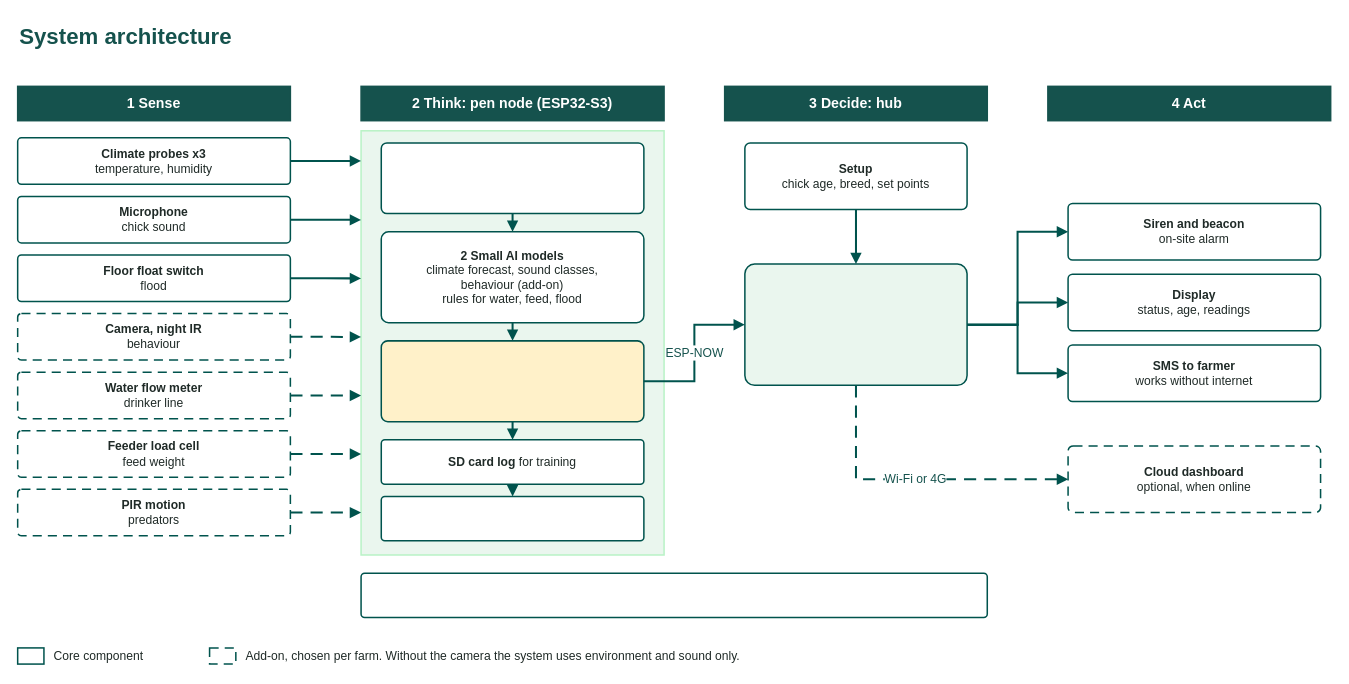
Some shapes in this 1349 by 684 pixel diagram are drawn without their labels. Each missing label, with the centre of its shape:
"1 Read and clean timestamp, filter faults, compare with chick age" goes at (x=512, y=178).
"3 Hazard engine one risk per hazard, safety overrides" goes at (x=512, y=381).
"Alert manager Normal, Warning, Critical escalation, acknowledge, quiet hours" goes at (x=855, y=324).
"ESP-NOW radio , no internet needed" goes at (x=512, y=518).
"Power: mains with Li-ion backup in node and hub. Solar kit optional." goes at (x=674, y=595).
